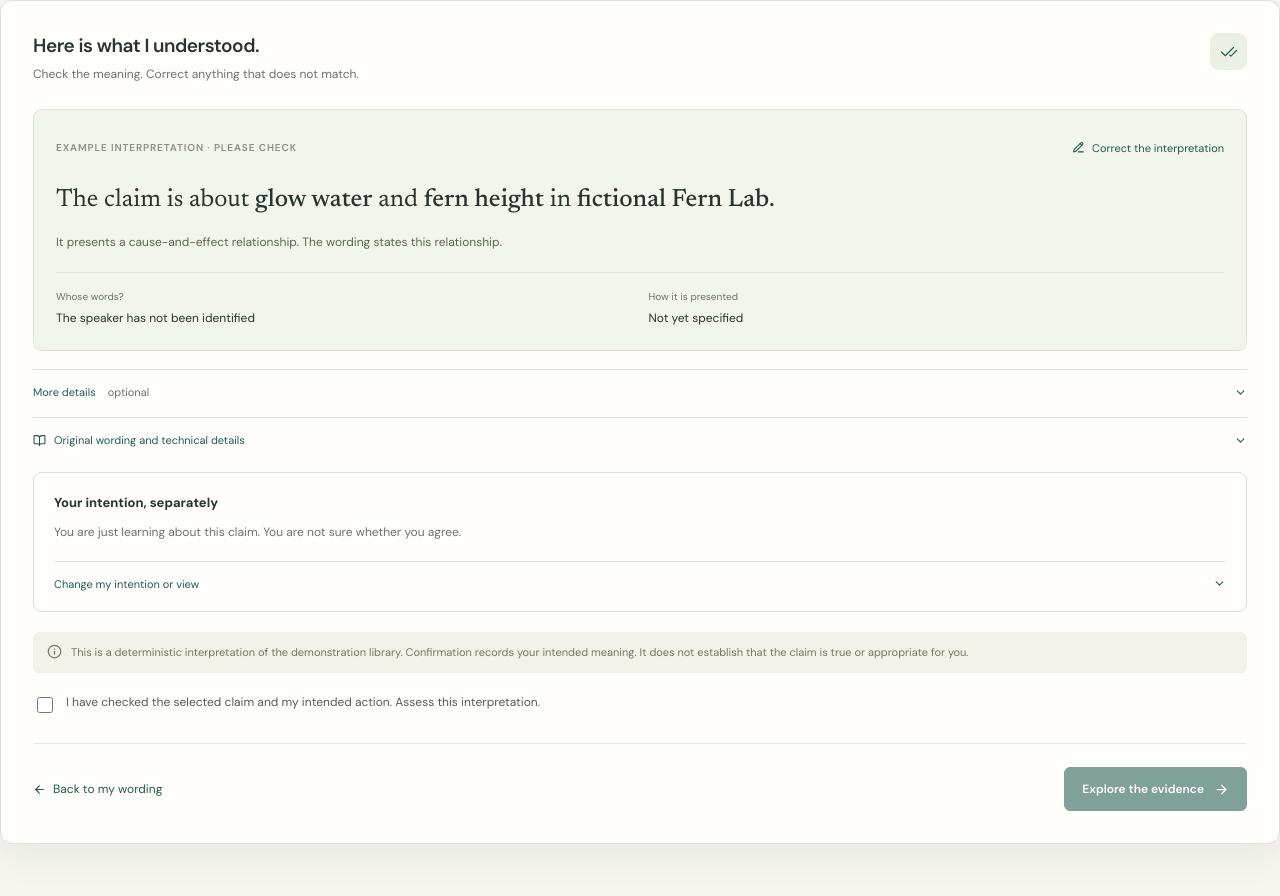
Test case: Explicit save consent and current evidence boundaries › requires a fresh confirmation after the user changes the polarity
Expected: the button "Explore the evidence" is disabled, [1064,767,1247,811]
Click the checkbox at (45, 705), box [37,697,53,713]
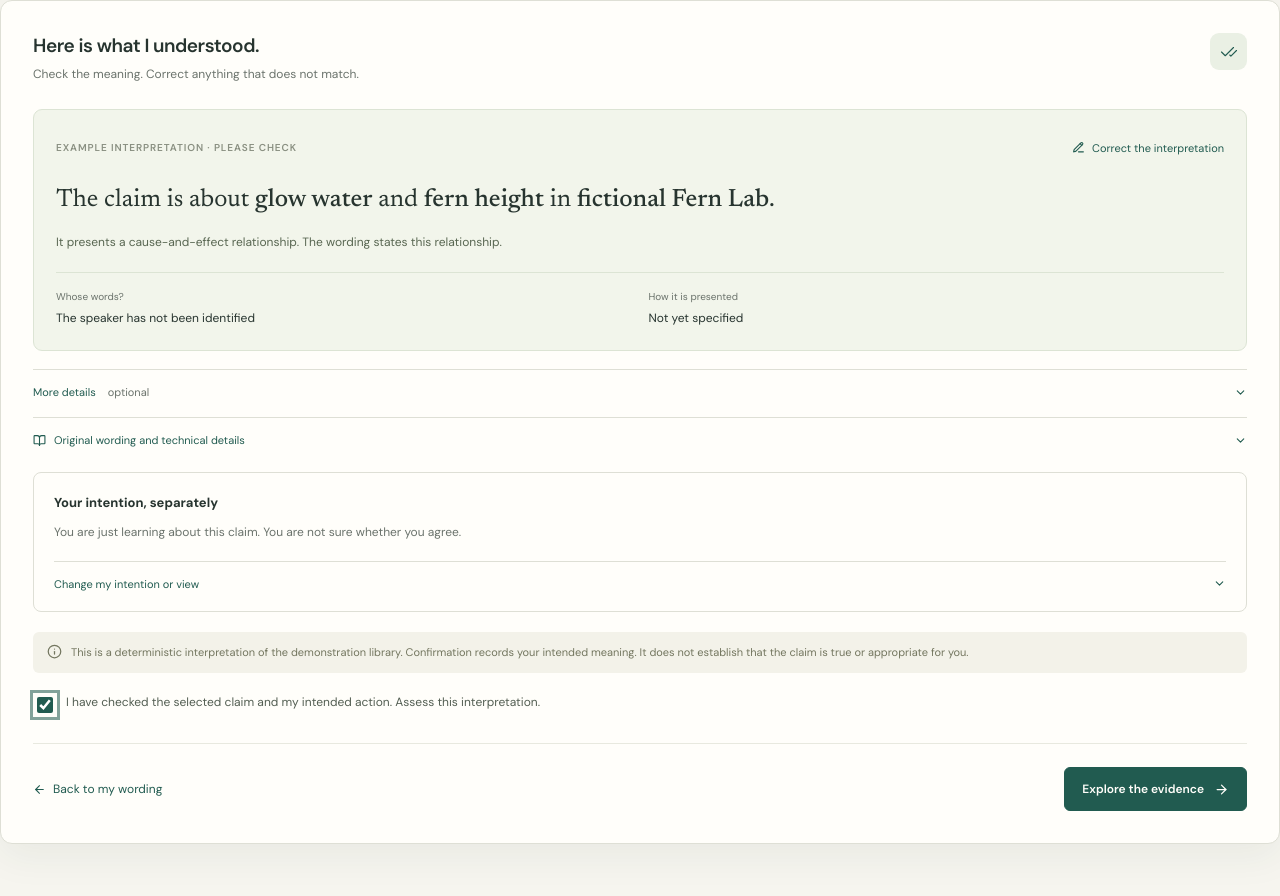
Now the button "Explore the evidence" is enabled, box [1064,767,1247,811]
Click the button "Correct the interpretation" at (1148, 148), box [1072,132,1224,164]
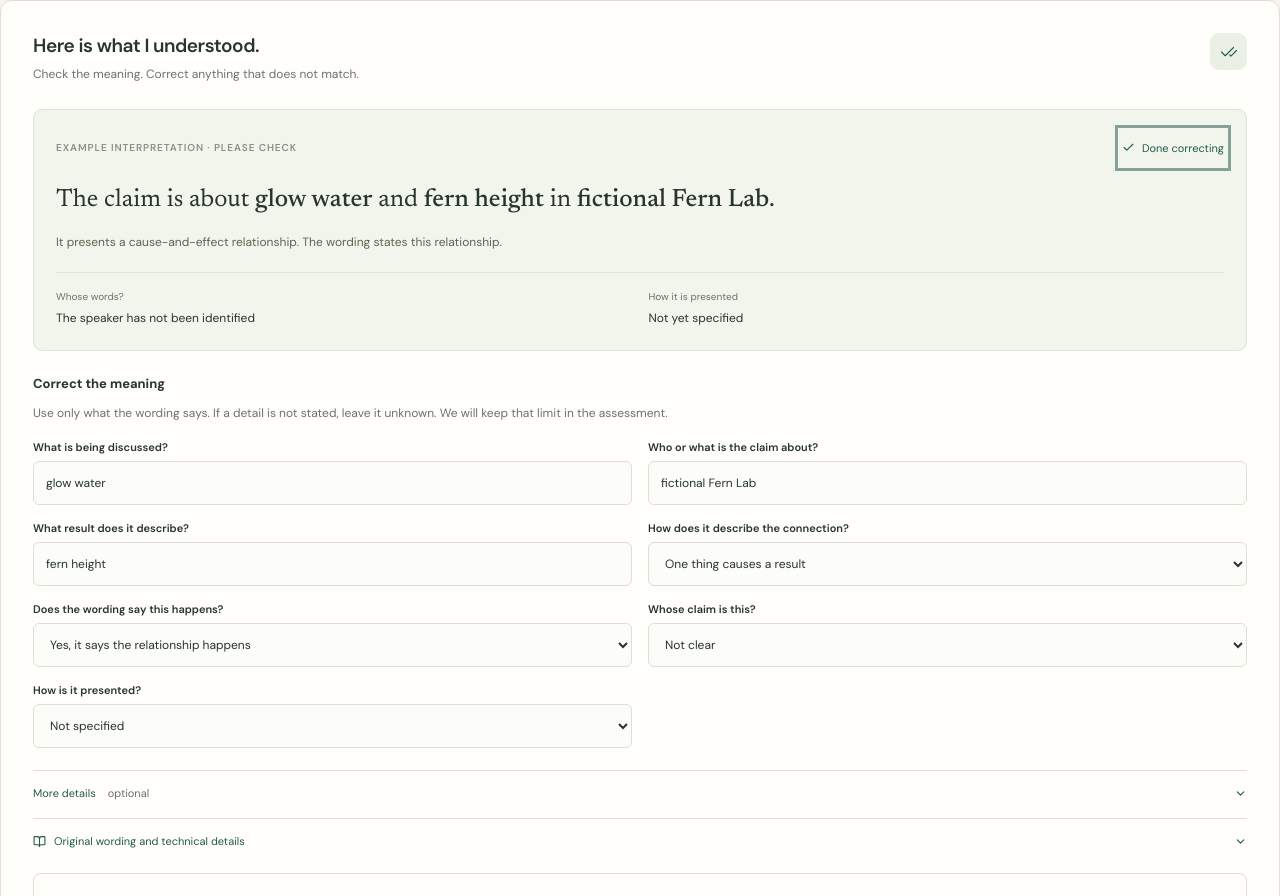
Select "No, it denies the relationship" in the dropdown labelled "Does the wording say this happens?" at (332, 645), box [33,623,632,667]
(page scrolled)
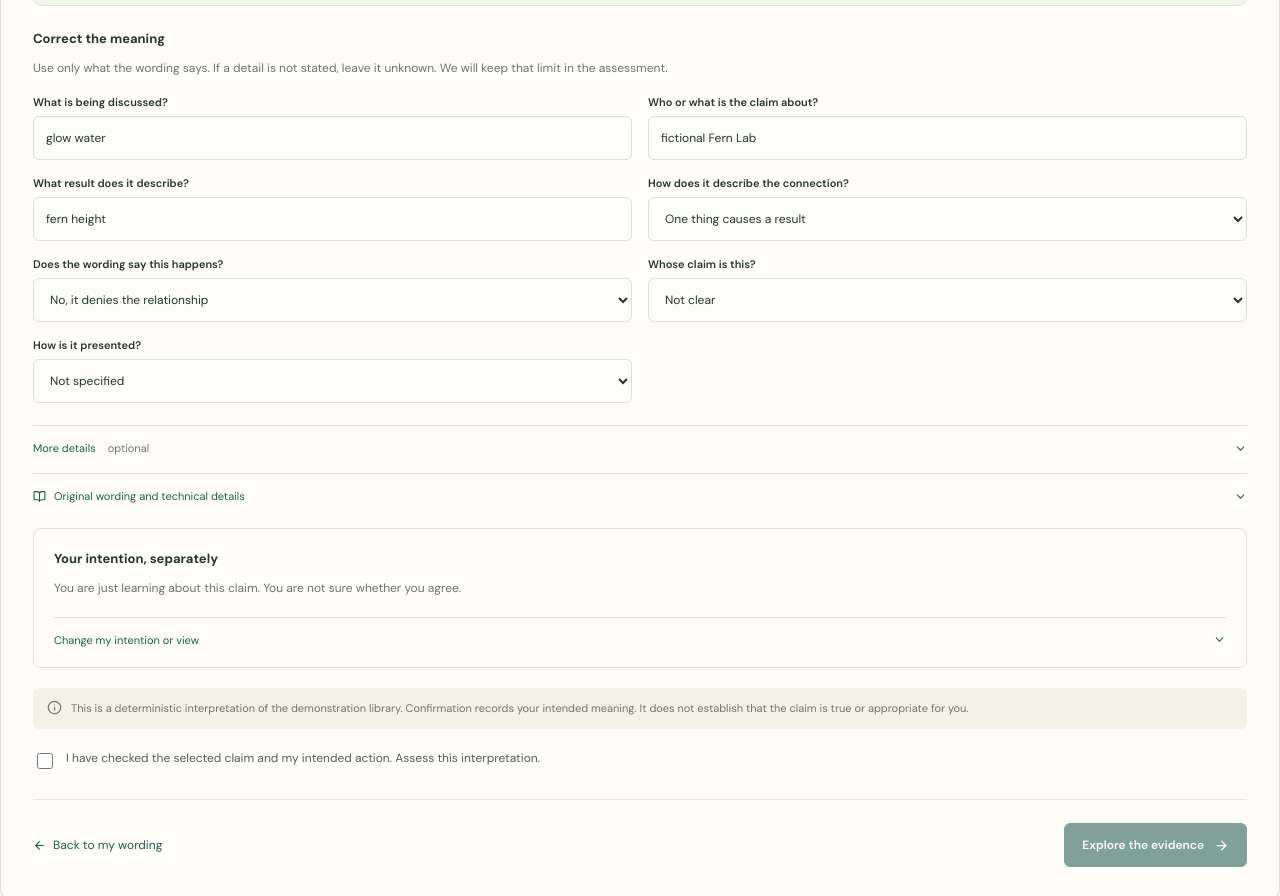
Now the checkbox is not checked, box [37,753,53,769]
Now the button "Explore the evidence" is disabled, box [1064,823,1247,867]
